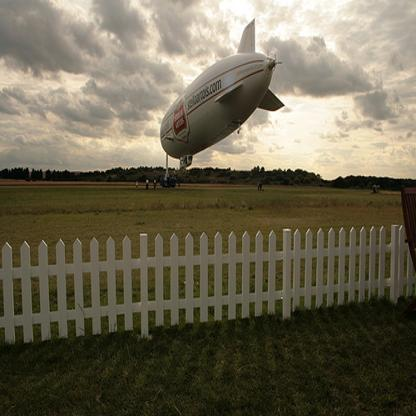Airship: (156, 17, 294, 187)
